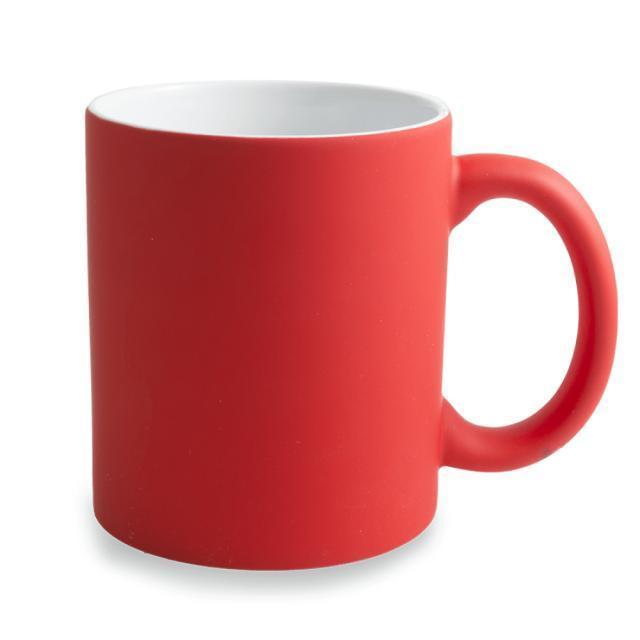taza: (58, 67, 626, 582)
